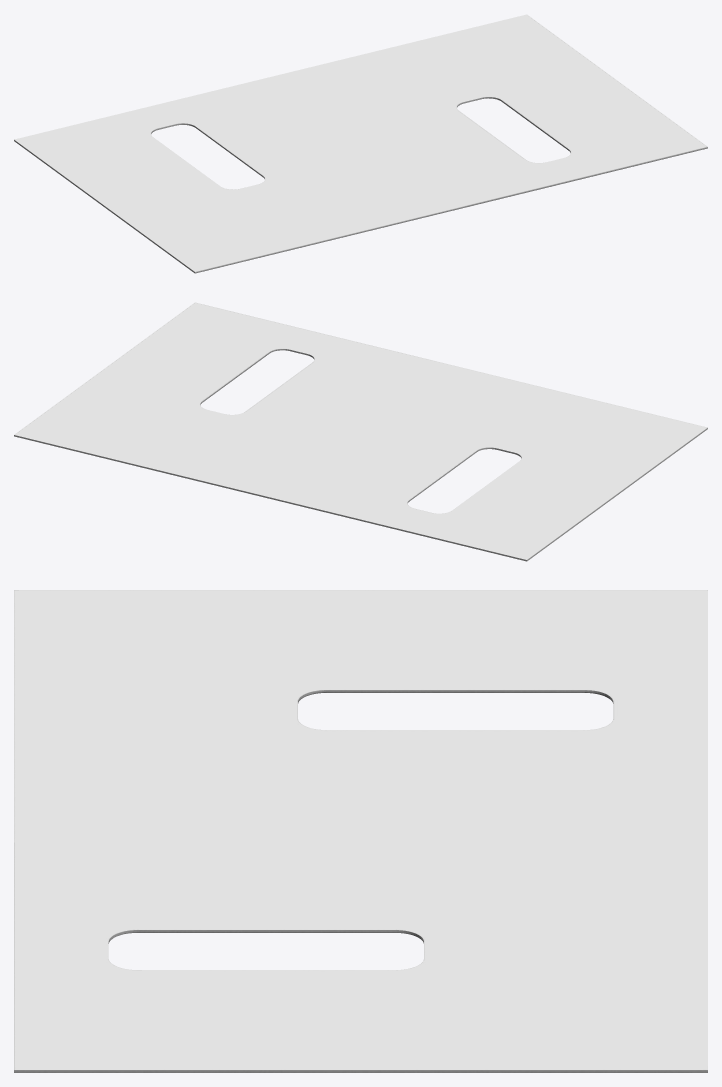
The picture shows the model from 3 angles, top to bottom: view 1: azimuth 30°, elevation 25°; view 2: azimuth 150°, elevation 25°; view 3: azimuth 270°, elevation 25°; orthographic projection. The views are drawn at different scales.
Visible parts, largest first — view 1: HORNEADO_suelo; view 2: HORNEADO_suelo; view 3: HORNEADO_suelo.
Boxes of the visible parts, x1,y1,x2,y2 form: HORNEADO_suelo: (14, 14, 707, 273); HORNEADO_suelo: (14, 302, 707, 561); HORNEADO_suelo: (14, 590, 707, 1072).
Size of what is drawn, in the model's own units: 36 by 0.1 by 22.
1 material, 1 textured.
